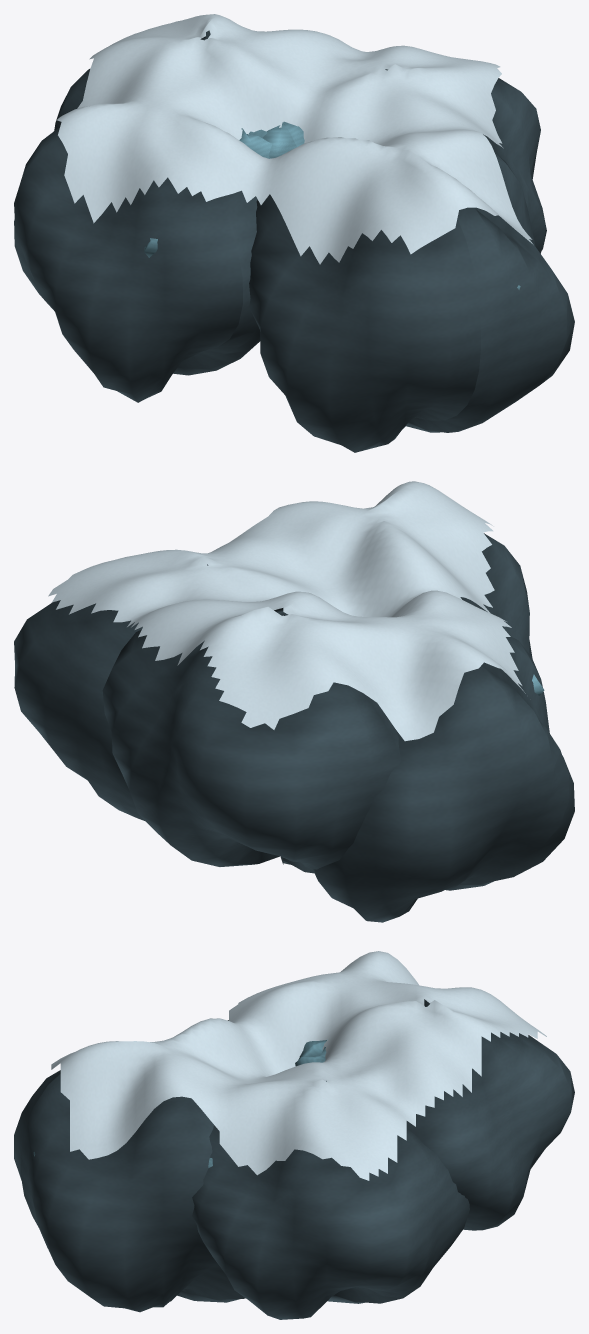
File: metal.glb
3 views of the same model, one above another, from view 1: azimuth 30°, elevation 25°; view 2: azimuth 150°, elevation 25°; view 3: azimuth 270°, elevation 25° (orthographic). The views are drawn at different scales.
Parts seen in each view (by area): view 1: metal; view 2: metal; view 3: metal.
Part boxes in pixels (box(x1,y1,x2,y2)): metal: box(14, 14, 574, 452); metal: box(14, 481, 574, 922); metal: box(14, 951, 574, 1319).
Size of the model in its own units: 1.54 by 0.8892 by 1.61.
Materials: 3 (3 with a texture image).
